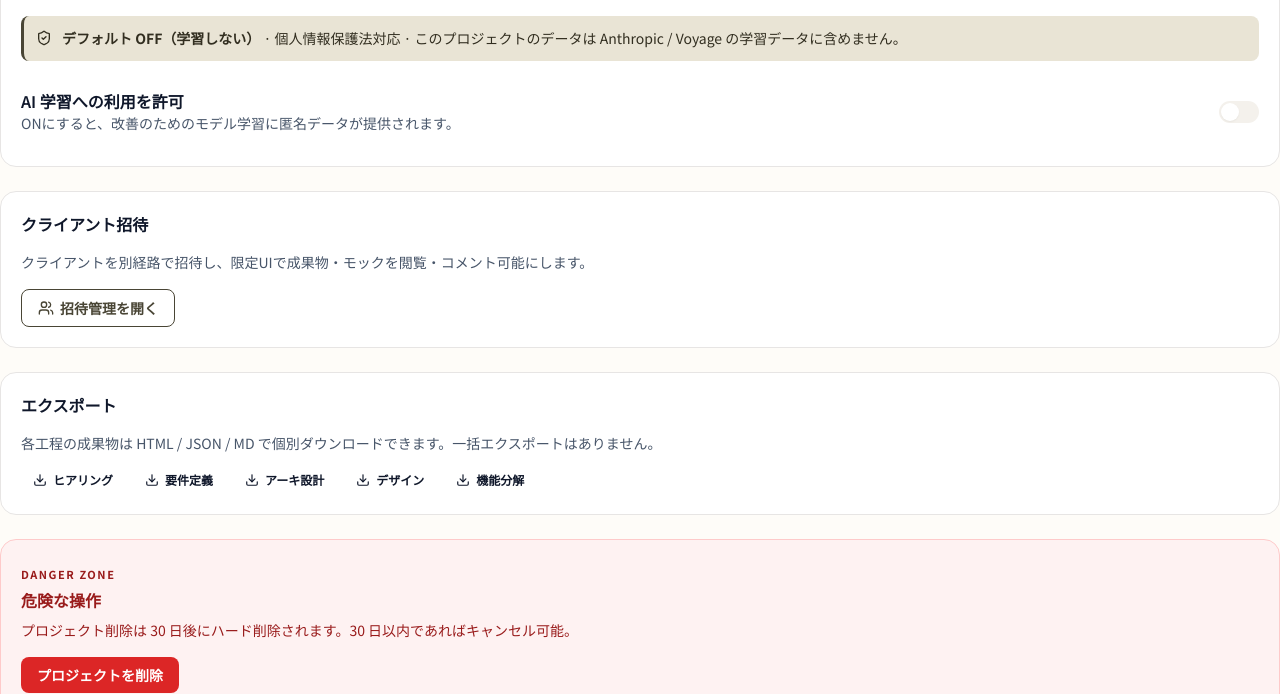
Test case: S-B03 ProjectSettingsContainer (T-UC-05) › surfaces storage-unconfigured (503) as an explicit export error
(page scrolled)
Click the button "デザイン".
click(390, 480)  # box [344, 466, 436, 494]
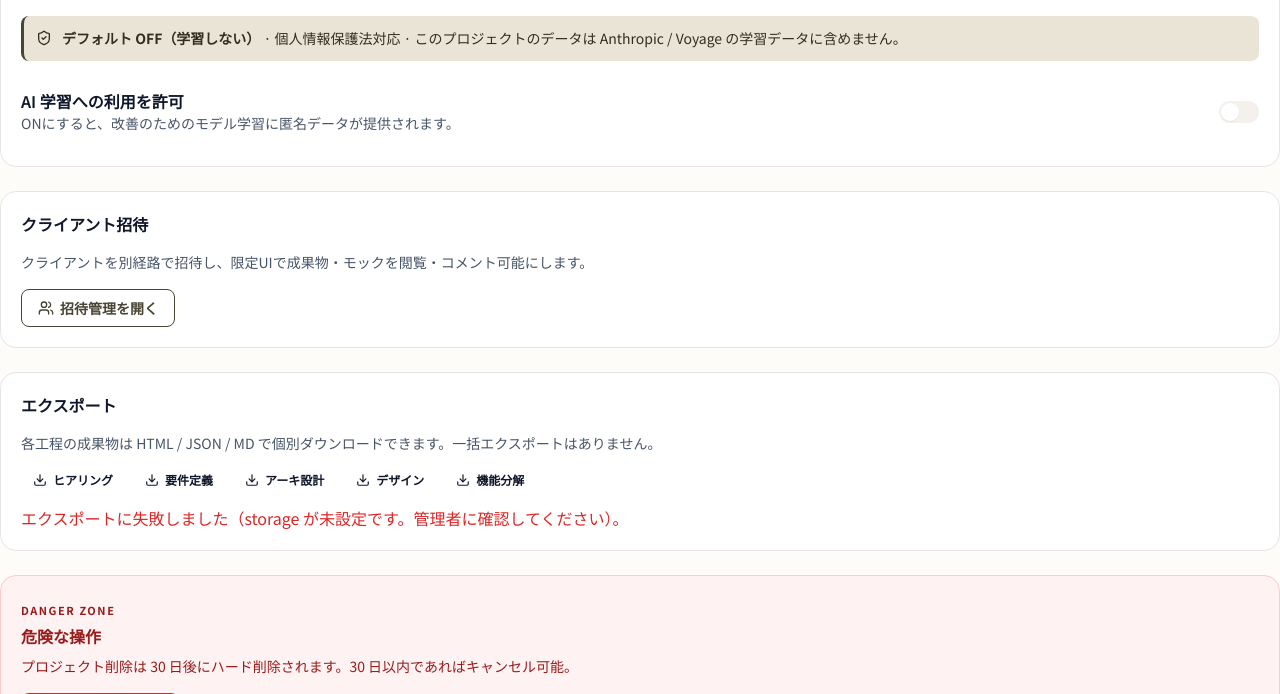
expect the text "エクスポートに失敗しました（storage が未設定です。管理者に確認してください）。" is shown: met, box [21, 506, 628, 530]
